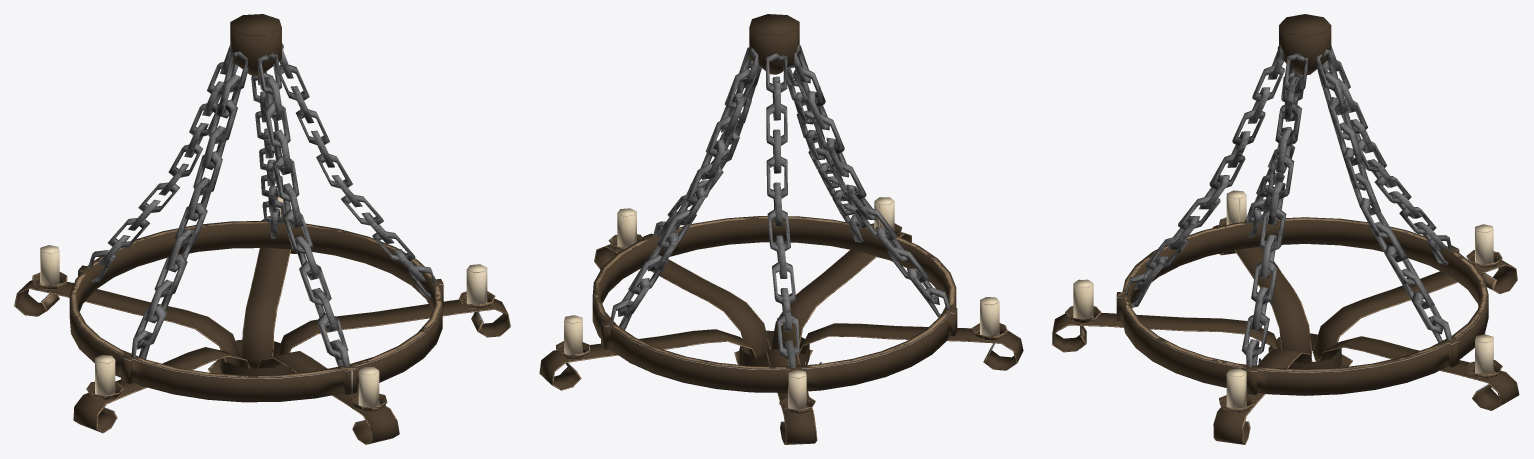
File: Medieval_Lamp.fbx
3 views of the same model, side by side, from view 1: azimuth 30°, elevation 25°; view 2: azimuth 150°, elevation 25°; view 3: azimuth 270°, elevation 25° (orthographic). The views are drawn at different scales.
Visible parts, largest first — view 1: Medieval_Lamp; view 2: Medieval_Lamp; view 3: Medieval_Lamp.
Part boxes in pixels (x1,y1,x2,y2): Medieval_Lamp: (14,14,510,444); Medieval_Lamp: (539,14,1023,444); Medieval_Lamp: (1052,14,1519,444).
Bounding box in the file's own units: 0.6013 × 0.4747 × 0.5729.
